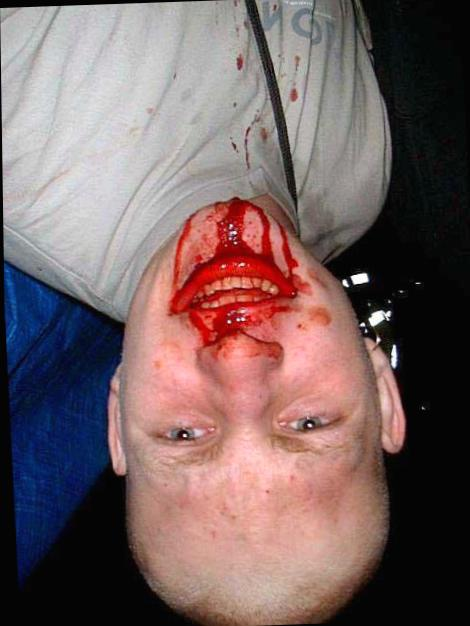Fire: (160, 198, 338, 378)
